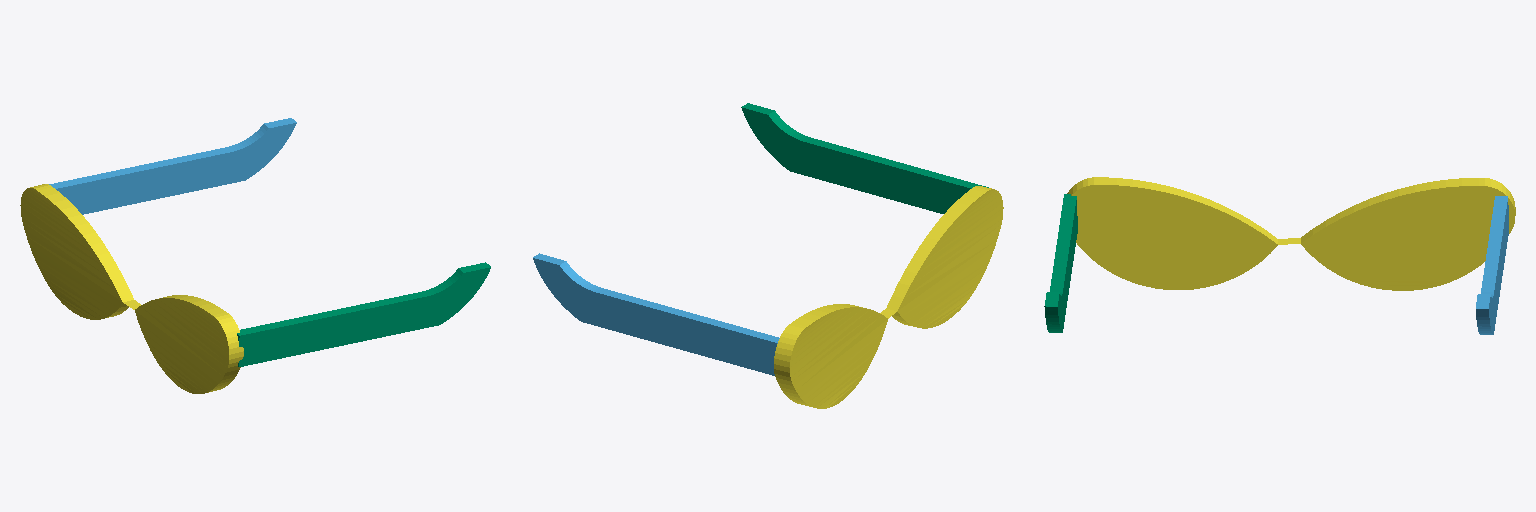
URDF robot description (partnet_32b136a0c50f117d365f49f10cc5bd41):
<?xml version="1.0" ?>
<robot name="partnet_32b136a0c50f117d365f49f10cc5bd41">
	<link name="base"/>
	<link name="link_0">
		<visual name="leg-1">
			<origin xyz="0.6515797226901525 -0.09790684229950442 -0.16440800966958607"/>
			<geometry>
				<mesh filename="textured_objs/original-3.obj"/>
			</geometry>
		</visual>
		<collision>
			<origin xyz="0.6515797226901525 -0.09790684229950442 -0.16440800966958607"/>
			<geometry>
				<mesh filename="textured_objs/original-3.obj"/>
			</geometry>
		</collision>
	</link>
	<joint name="joint_0" type="revolute">
		<origin xyz="-0.6515797226901525 0.09790684229950442 0.16440800966958607"/>
		<axis xyz="0 -1 0"/>
		<child link="link_0"/>
		<parent link="link_2"/>
		<limit lower="-0.0" upper="1.1623892818282238"/>
	</joint>
	<link name="link_1">
		<visual name="leg-2">
			<origin xyz="-0.6316526308559023 -0.09926066379861531 -0.1680707768901497"/>
			<geometry>
				<mesh filename="textured_objs/original-2.obj"/>
			</geometry>
		</visual>
		<collision>
			<origin xyz="-0.6316526308559023 -0.09926066379861531 -0.1680707768901497"/>
			<geometry>
				<mesh filename="textured_objs/original-2.obj"/>
			</geometry>
		</collision>
	</link>
	<joint name="joint_1" type="revolute">
		<origin xyz="0.6316526308559023 0.09926066379861531 0.1680707768901497"/>
		<axis xyz="0 1 0"/>
		<child link="link_1"/>
		<parent link="link_2"/>
		<limit lower="0.0" upper="1.501681288415921"/>
	</joint>
	<link name="link_2">
		<visual name="base_body-3">
			<origin xyz="0 0 0"/>
			<geometry>
				<mesh filename="textured_objs/original-1.obj"/>
			</geometry>
		</visual>
		<collision>
			<origin xyz="0 0 0"/>
			<geometry>
				<mesh filename="textured_objs/original-1.obj"/>
			</geometry>
		</collision>
	</link>
	<joint name="joint_2" type="fixed">
		<origin rpy="1.570796326794897 0 -1.570796326794897" xyz="0 0 0"/>
		<child link="link_2"/>
		<parent link="base"/>
	</joint>
</robot>

--- What the picture shows (computed from the rendered views, not written in the file) ---
Views: 3 orthographic renders of the robot side by side, from view 1: azimuth 30°, elevation 25°; view 2: azimuth 150°, elevation 25°; view 3: azimuth 270°, elevation 25°.
Robot: partnet_32b136a0c50f117d365f49f10cc5bd41 — 4 links, 3 joints (2 revolute, 1 fixed); root link base; default pose: every joint at zero.
Visible links, largest first — view 1: link_2, link_1, link_0; view 2: link_2, link_0, link_1; view 3: link_2, link_0, link_1.
Boxes of the visible links, left/top/right/bottom form: link_2: left=20, top=184, right=243, bottom=393; link_1: left=237, top=262, right=490, bottom=366; link_0: left=49, top=118, right=296, bottom=214; link_2: left=774, top=186, right=1003, bottom=408; link_0: left=533, top=253, right=779, bottom=375; link_1: left=741, top=103, right=988, bottom=213; link_2: left=1067, top=177, right=1515, bottom=290; link_0: left=1476, top=196, right=1508, bottom=334; link_1: left=1044, top=194, right=1077, bottom=332.
Size in the robot's own frame: 0.9594 by 1.38 by 0.3655 metres.
Meshes: 3 distinct files referenced, 3 mesh visuals loaded (3 OBJ).